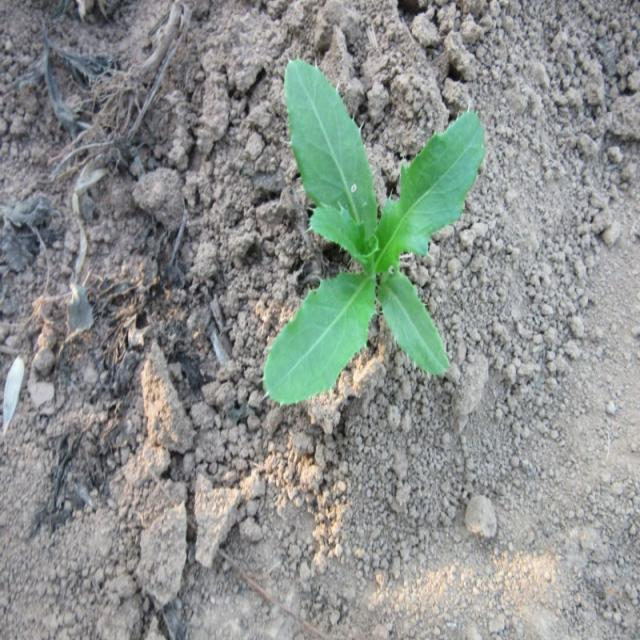cs: (262, 55, 485, 410)
